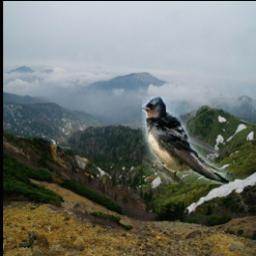Swallow: (143, 97, 252, 184)
